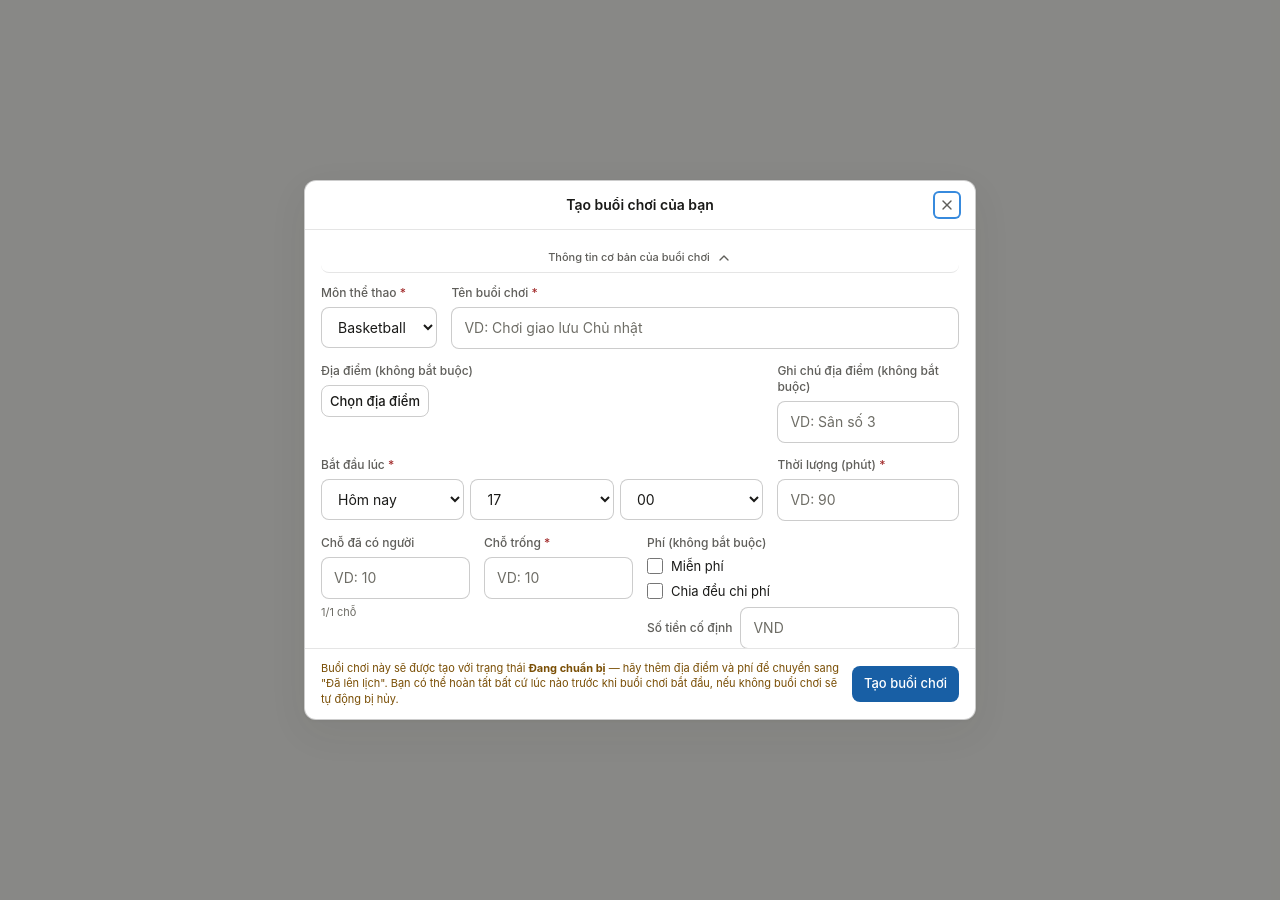
Test case: CreateSessionModal i18n › renders the form and its inline validation errors in Vietnamese
Expected: the heading "Tạo buổi chơi của bạn" is shown, [566, 195, 714, 215]
Click the button "Tạo buổi chơi": (905, 684) [852, 666, 959, 702]
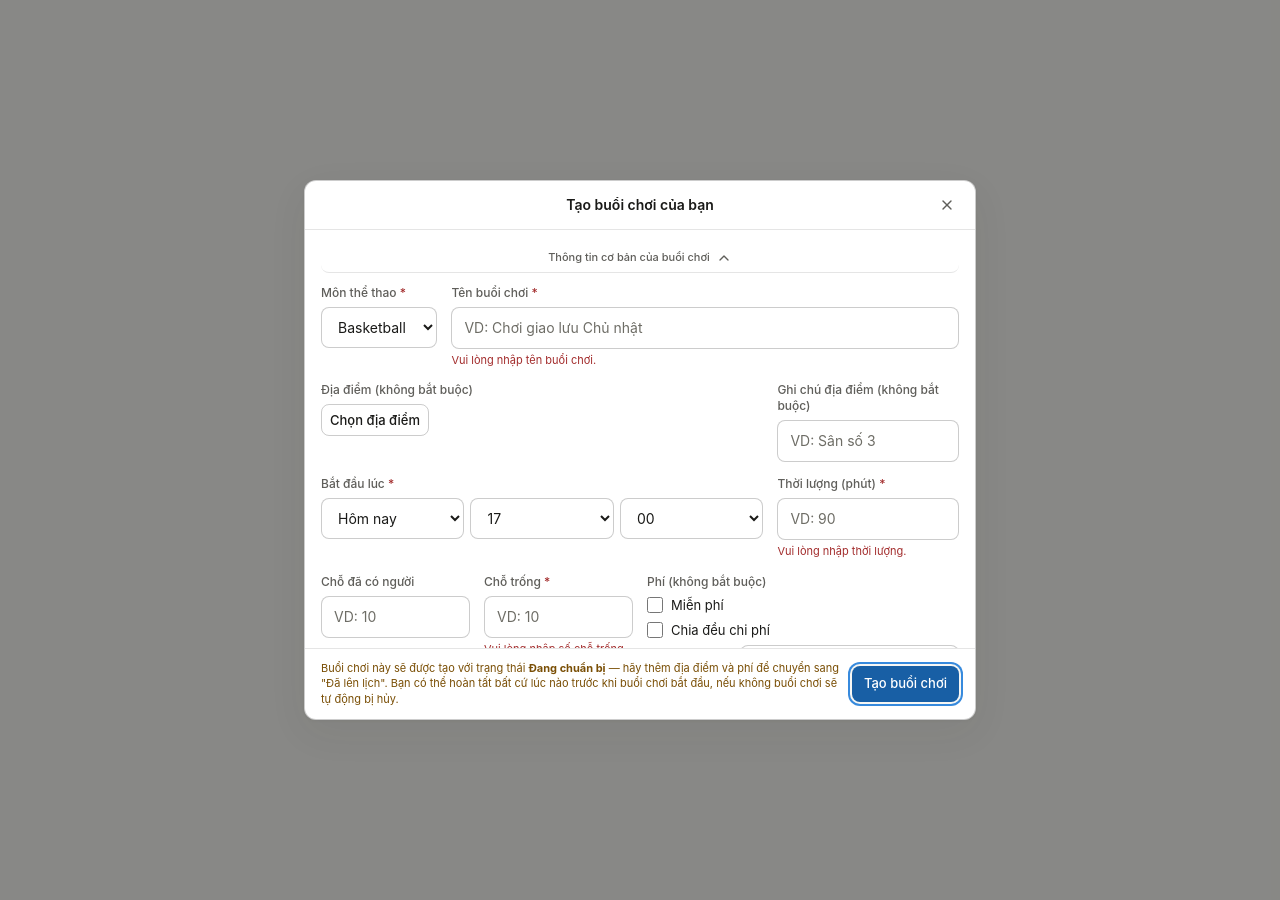
Now the text "Vui lòng nhập tên buổi chơi." is shown, box [451, 353, 596, 367]
Now the text "Vui lòng nhập thời lượng." is shown, box [777, 544, 906, 558]
